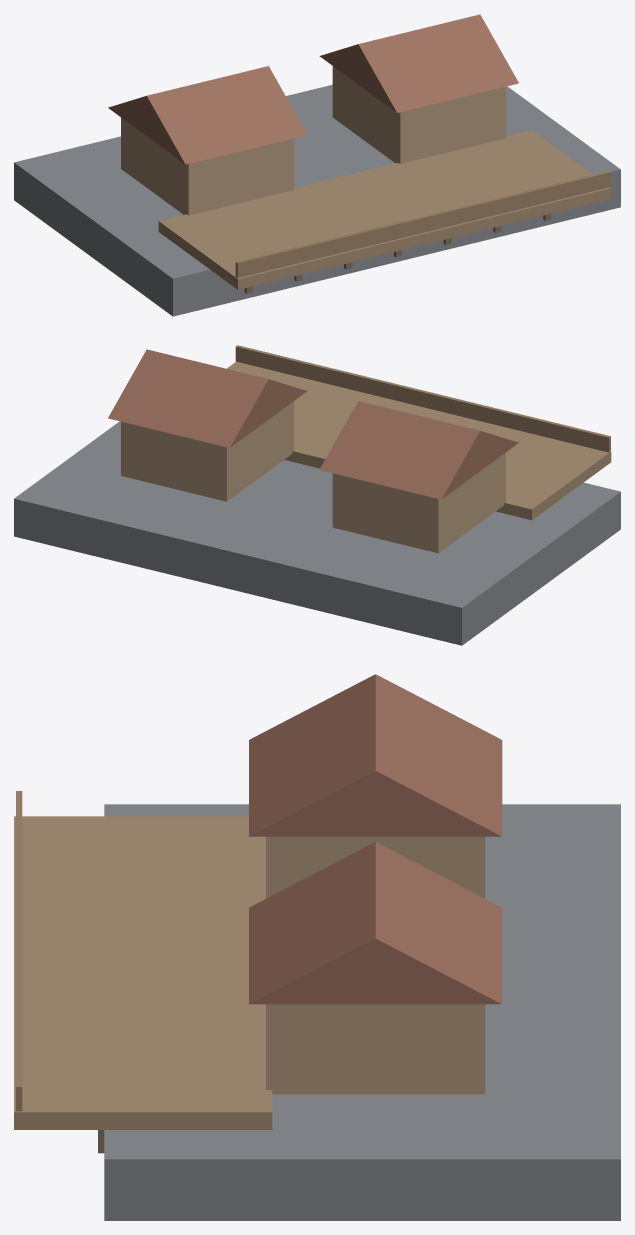
File: lm_125_tram_dung_ngam_canh_va_cau_go_san_may_deo_dran_ngoan_muc_don_duong.glb
3 renders of one model, top to bottom at view 1: azimuth 30°, elevation 25°; view 2: azimuth 150°, elevation 25°; view 3: azimuth 270°, elevation 25°, orthographic. The views are drawn at different scales.
Parts seen in each view (by area): view 1: lm_125; view 2: lm_125; view 3: lm_125.
Part boxes in pixels (<box>): lm_125: <box>14,14,620,316</box>; lm_125: <box>14,345,620,645</box>; lm_125: <box>14,674,620,1220</box>.
Size of the model in its own units: 36 by 11.2 by 26.
